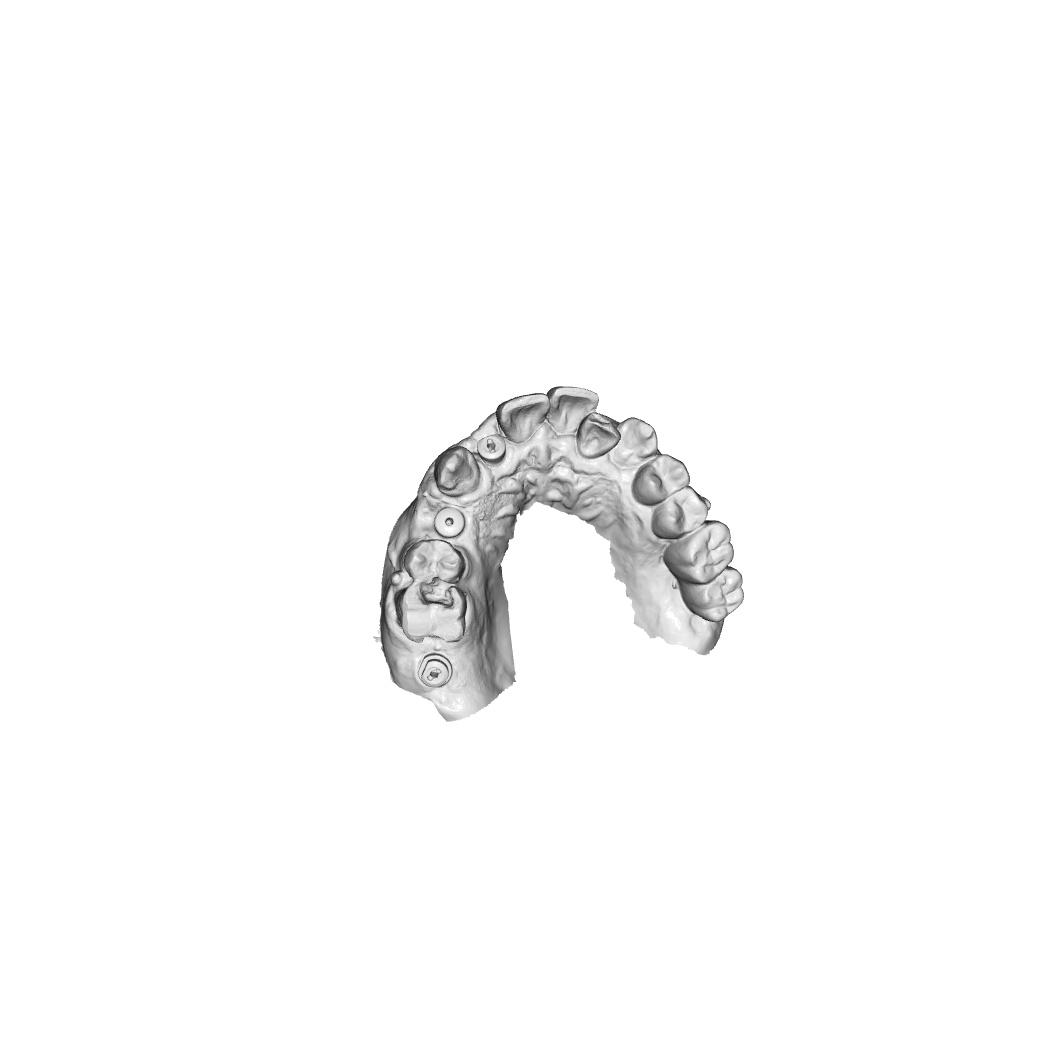canine: (434, 446, 482, 498), (613, 416, 659, 465)
implant: (432, 505, 467, 538)
implant_minus: (418, 652, 454, 690), (476, 434, 507, 462)
incisor: (496, 392, 550, 446), (547, 385, 600, 438), (576, 411, 621, 460)
molar: (663, 519, 735, 585), (395, 583, 468, 645), (679, 565, 746, 623)
premolar: (650, 485, 709, 541), (631, 453, 691, 506), (402, 539, 466, 584)
